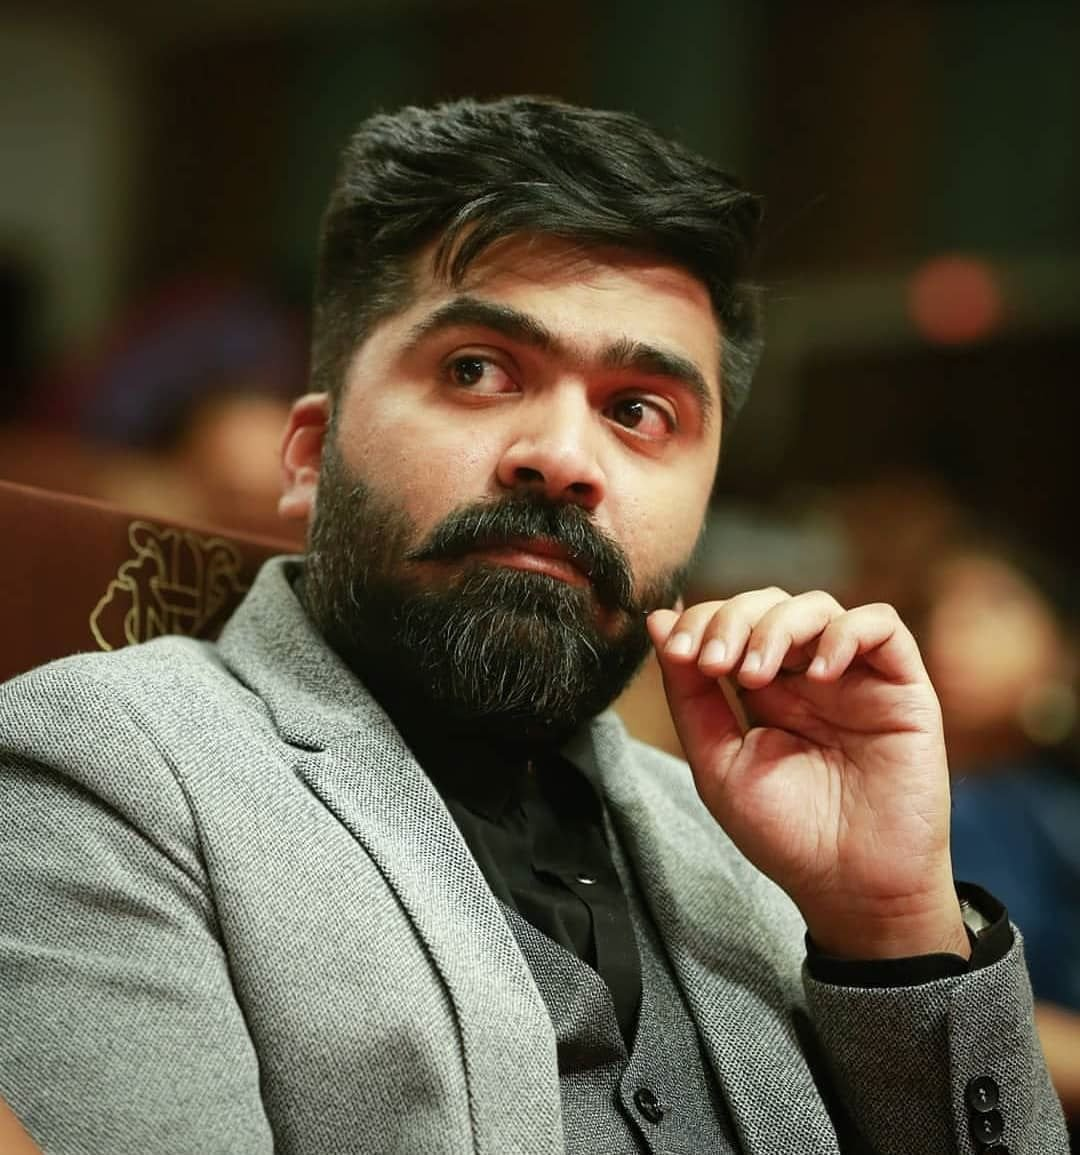noMask: (260, 75, 742, 748)
